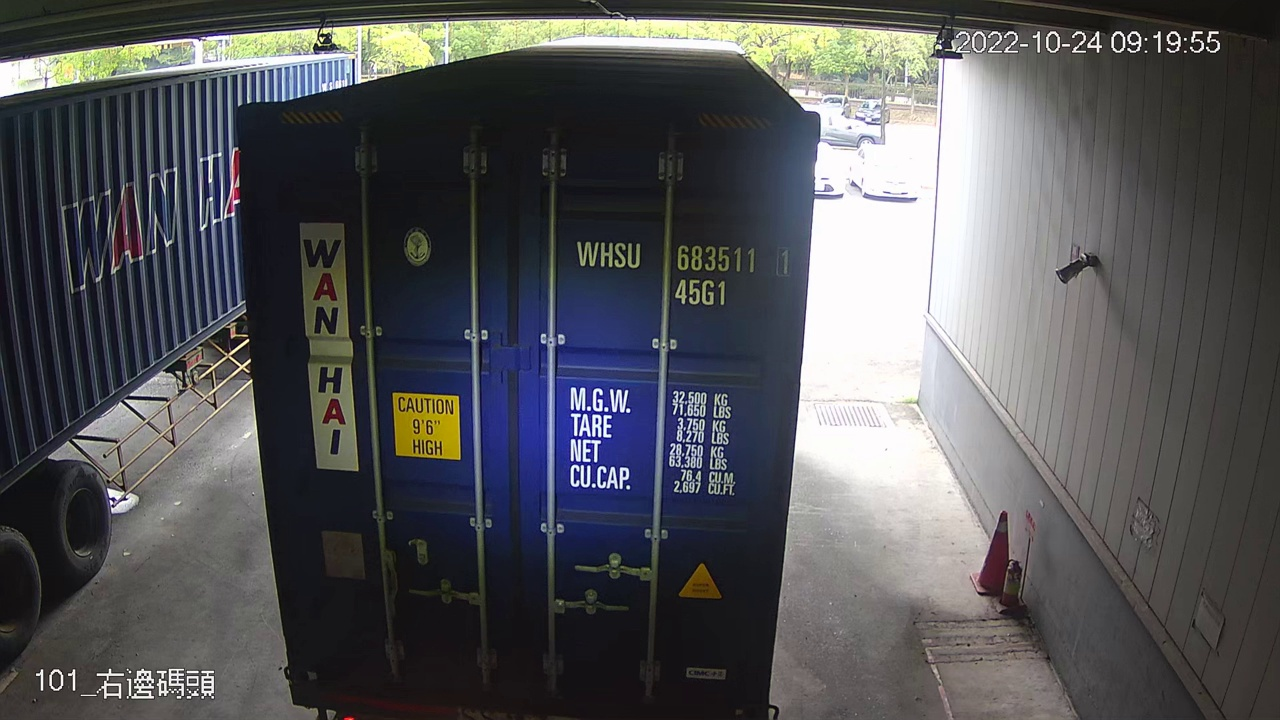container: (567, 228, 796, 314)
